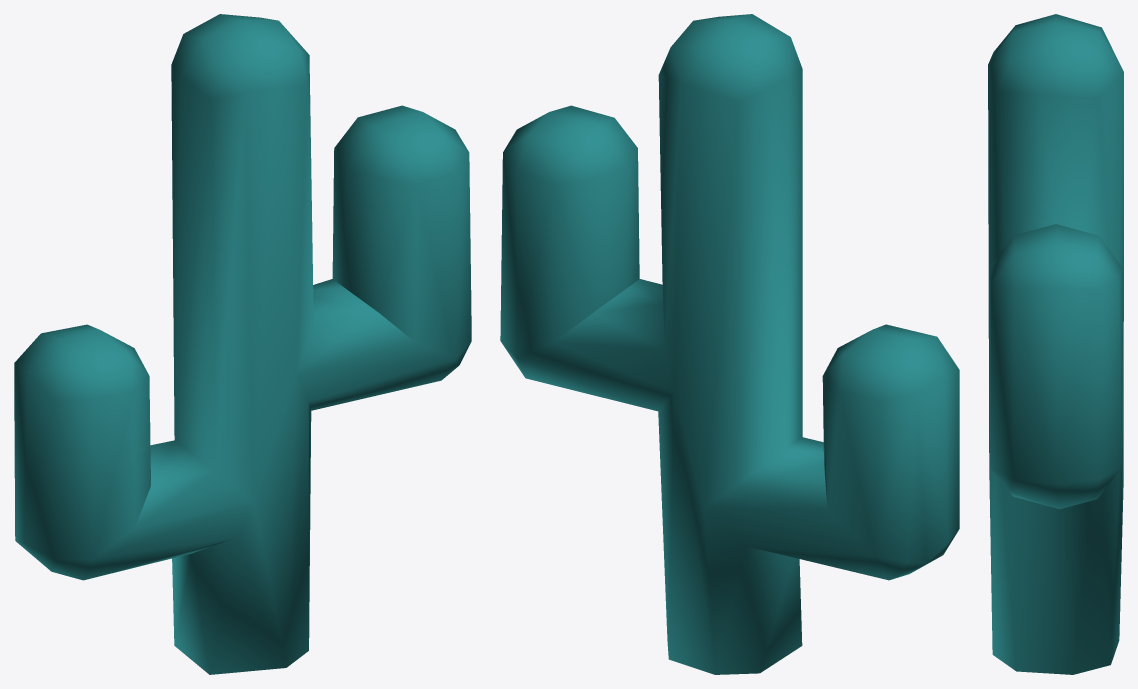
Rendered from tree_desert.fbx.
3 views of the same model, side by side, from view 1: azimuth 30°, elevation 25°; view 2: azimuth 150°, elevation 25°; view 3: azimuth 270°, elevation 25° (orthographic).
Visible parts, largest first — view 1: tree_desert; view 2: tree_desert; view 3: tree_desert.
Boxes of the visible parts, x1,y1,x2,y2 form: tree_desert: (14,14,471,674); tree_desert: (500,14,959,674); tree_desert: (988,14,1123,674).
Size of the model in its own units: 204 by 281 by 55.38.
